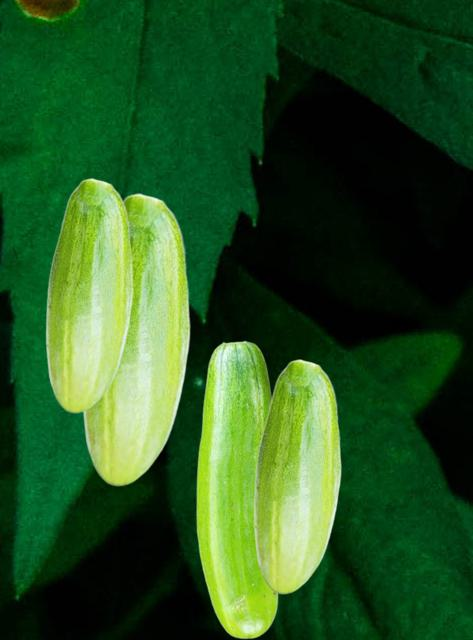cucumber: (81, 193, 189, 485), (196, 340, 277, 638), (45, 178, 132, 412), (253, 359, 340, 593)
